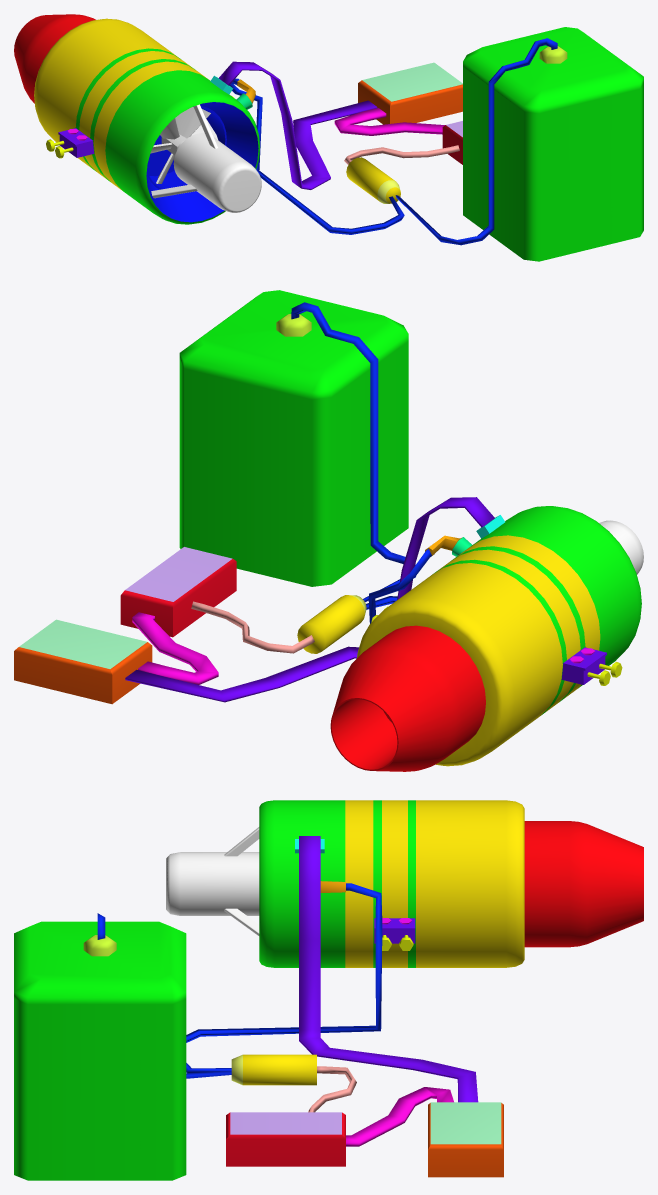
Rendered from partes_turbina.fbx.
3 views of the same model, one above another, from view 1: azimuth 30°, elevation 25°; view 2: azimuth 150°, elevation 25°; view 3: azimuth 270°, elevation 25° (orthographic). The views are drawn at different scales.
Visible parts, largest first — view 1: tanque_rojo, turbina, cables_metal, cables_rojos, tapa_negra, caja01, helice, caja02; view 2: tanque_rojo, turbina, caja01, cables_metal, cables_rojos, caja02, tapa_negra; view 3: turbina, tanque_rojo, cables_rojos, caja02, tapa_negra, cables_metal, caja01.
Part boxes in pixels (bbox=[...]): tanque_rojo: bbox=[463, 27, 643, 261]; turbina: bbox=[14, 14, 260, 224]; cables_metal: bbox=[229, 38, 557, 245]; cables_rojos: bbox=[218, 61, 444, 189]; tapa_negra: bbox=[151, 104, 261, 212]; caja01: bbox=[358, 62, 462, 124]; helice: bbox=[150, 107, 217, 183]; caja02: bbox=[442, 121, 462, 164]; tanque_rojo: bbox=[179, 290, 408, 586]; turbina: bbox=[330, 506, 641, 771]; caja01: bbox=[14, 619, 152, 704]; cables_metal: bbox=[191, 302, 434, 653]; cables_rojos: bbox=[125, 497, 494, 702]; caja02: bbox=[120, 547, 236, 637]; tapa_negra: bbox=[599, 520, 643, 574]; turbina: bbox=[259, 800, 643, 967]; tanque_rojo: bbox=[14, 921, 186, 1180]; cables_rojos: bbox=[299, 836, 478, 1146]; caja02: bbox=[226, 1112, 345, 1166]; tapa_negra: bbox=[166, 827, 259, 935]; cables_metal: bbox=[97, 883, 382, 1112]; caja01: bbox=[428, 1102, 503, 1177].
Size of the model in its own units: 0.5402 by 0.223 by 0.5675.
